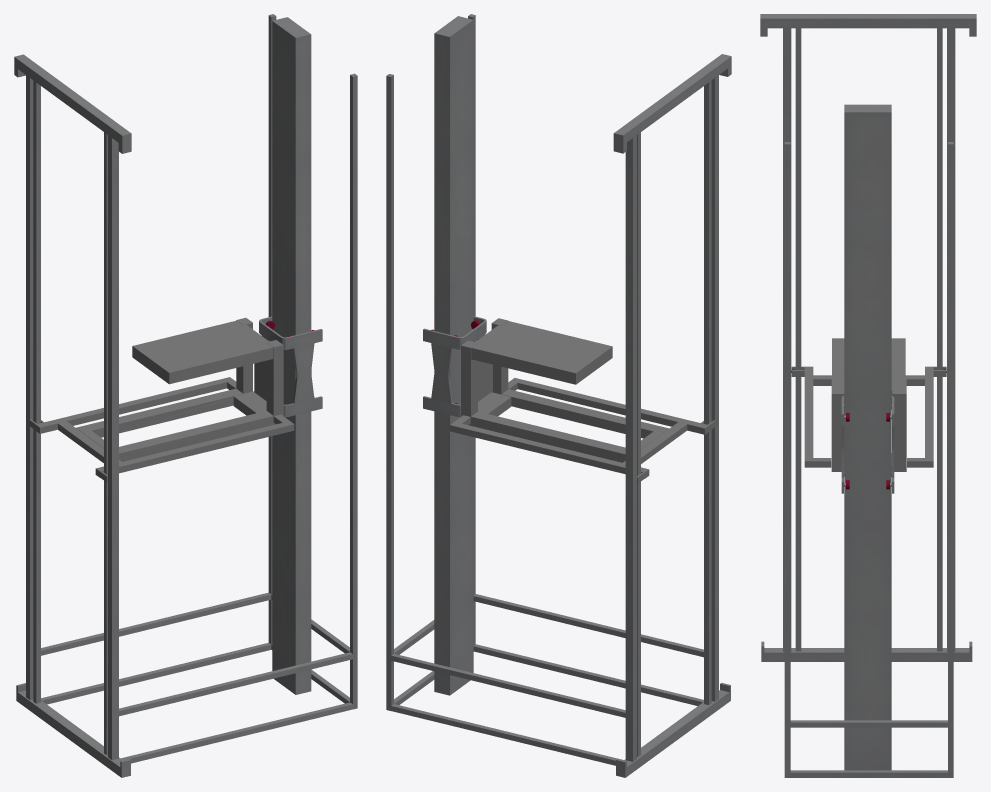
File: HCTS.glb
3 renders of one model, left to right at view 1: azimuth 30°, elevation 25°; view 2: azimuth 150°, elevation 25°; view 3: azimuth 270°, elevation 25°, orthographic.
Parts seen in each view (by area): view 1: 对象017, 对象019, 对象007, 对象015, 对象022, 对象021, 对象028, 对象016, 对象020, 对象011, 对象001, 对象025 (+10 smaller); view 2: 对象017, 对象022, 对象007, 对象016, 对象019, 对象020, 对象001, 对象021, 对象011, 对象028, 对象026, 对象032 (+10 smaller); view 3: 对象017, 对象015, 对象020, 对象016, 对象021, 对象022, 对象019, 对象034, 对象036, 对象007, 对象024, 对象014 (+6 smaller).
Part boxes in pixels (<box>): 对象017: <box>272,17,311,694</box>; 对象019: <box>108,135,118,760</box>; 对象007: <box>132,320,273,384</box>; 对象015: <box>350,73,357,709</box>; 对象022: <box>26,75,33,700</box>; 对象021: <box>33,80,40,703</box>; 对象028: <box>119,411,283,461</box>; 对象016: <box>268,14,276,644</box>; 对象020: <box>104,132,107,755</box>; 对象011: <box>259,316,322,417</box>; 对象001: <box>76,388,252,437</box>; 对象025: <box>119,652,352,716</box>; 对象017: <box>434,16,473,695</box>; 对象022: <box>625,135,636,761</box>; 对象007: <box>471,321,612,384</box>; 对象016: <box>386,74,393,710</box>; 对象019: <box>711,75,718,701</box>; 对象020: <box>704,80,711,704</box>; 对象001: <box>461,411,625,462</box>; 对象021: <box>637,132,640,756</box>; 对象011: <box>423,316,486,417</box>; 对象028: <box>492,389,668,438</box>; 对象026: <box>391,653,625,717</box>; 对象032: <box>457,423,649,478</box>; 对象017: <box>844,104,891,770</box>; 对象015: <box>784,142,790,777</box>; 对象020: <box>795,28,801,651</box>; 对象016: <box>948,142,953,777</box>; 对象021: <box>937,28,942,651</box>; 对象022: <box>947,28,955,651</box>; 对象019: <box>783,28,791,651</box>; 对象034: <box>767,14,969,28</box>; 对象036: <box>764,648,969,661</box>; 对象007: <box>832,338,905,395</box>; 对象024: <box>790,720,947,727</box>; 对象014: <box>790,770,947,777</box>.
Size of the model in its own units: 213 by 540 by 161.
37 materials, 37 textured.
